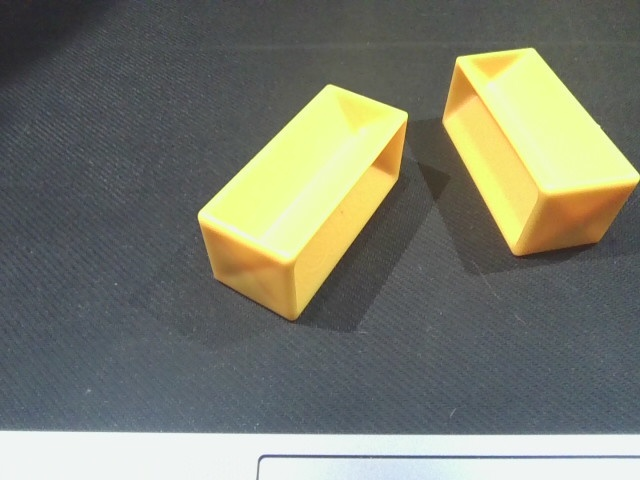YellowSample: (191, 75, 414, 324), (435, 41, 640, 278)
